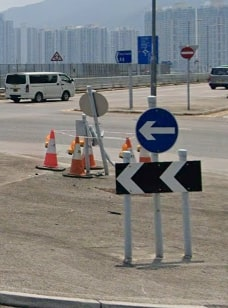Turn Left: (133, 106, 180, 156)
Turn Left(quick): (111, 162, 204, 194)
